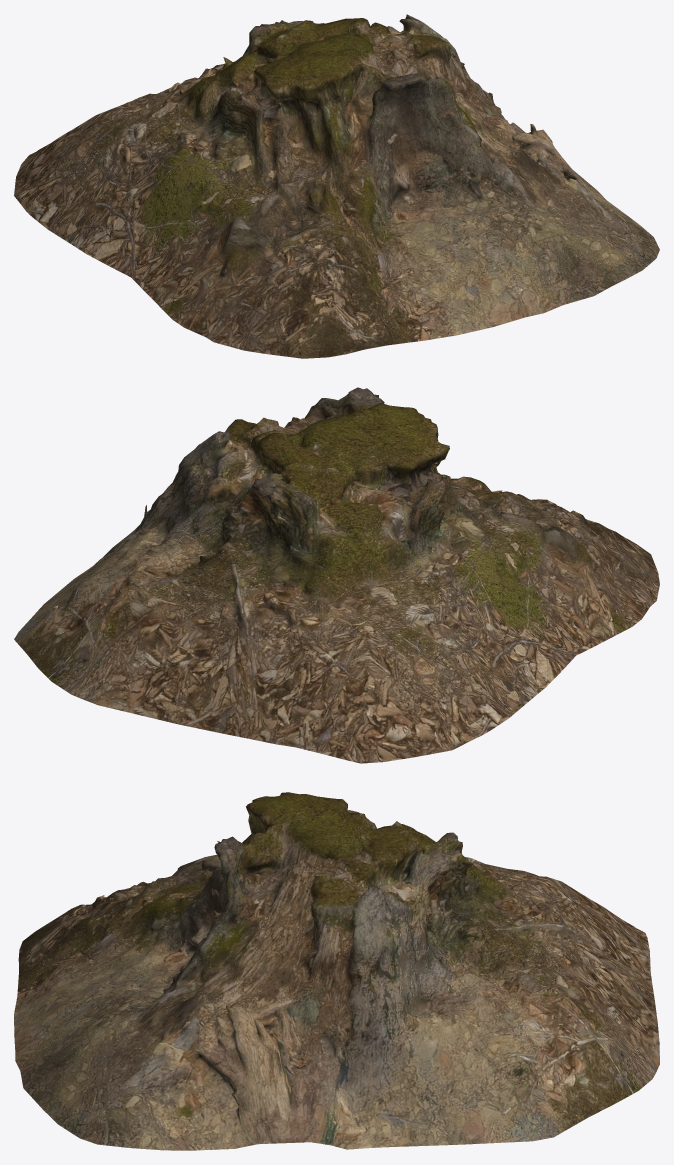
3 views of the same model, one above another, from view 1: azimuth 30°, elevation 25°; view 2: azimuth 150°, elevation 25°; view 3: azimuth 270°, elevation 25° (orthographic). The views are drawn at different scales.
Visible parts, largest first — view 1: tree_stump_01_lod0; view 2: tree_stump_01_lod0; view 3: tree_stump_01_lod0.
Part boxes in pixels (<box>): tree_stump_01_lod0: <box>14,14,659,358</box>; tree_stump_01_lod0: <box>14,387,659,763</box>; tree_stump_01_lod0: <box>14,792,659,1150</box>.
Size of the model in its own units: 1.43 by 0.5699 by 1.59.
Materials: 1 (1 with a texture image).
